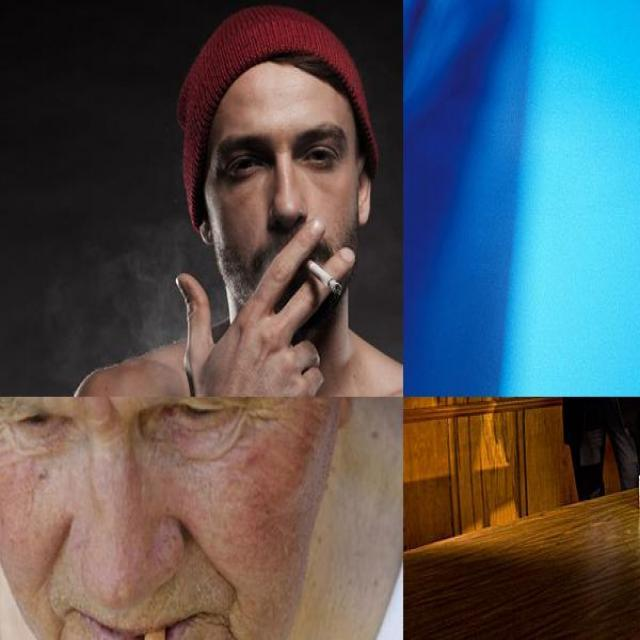cigarette: (303, 255, 346, 298)
